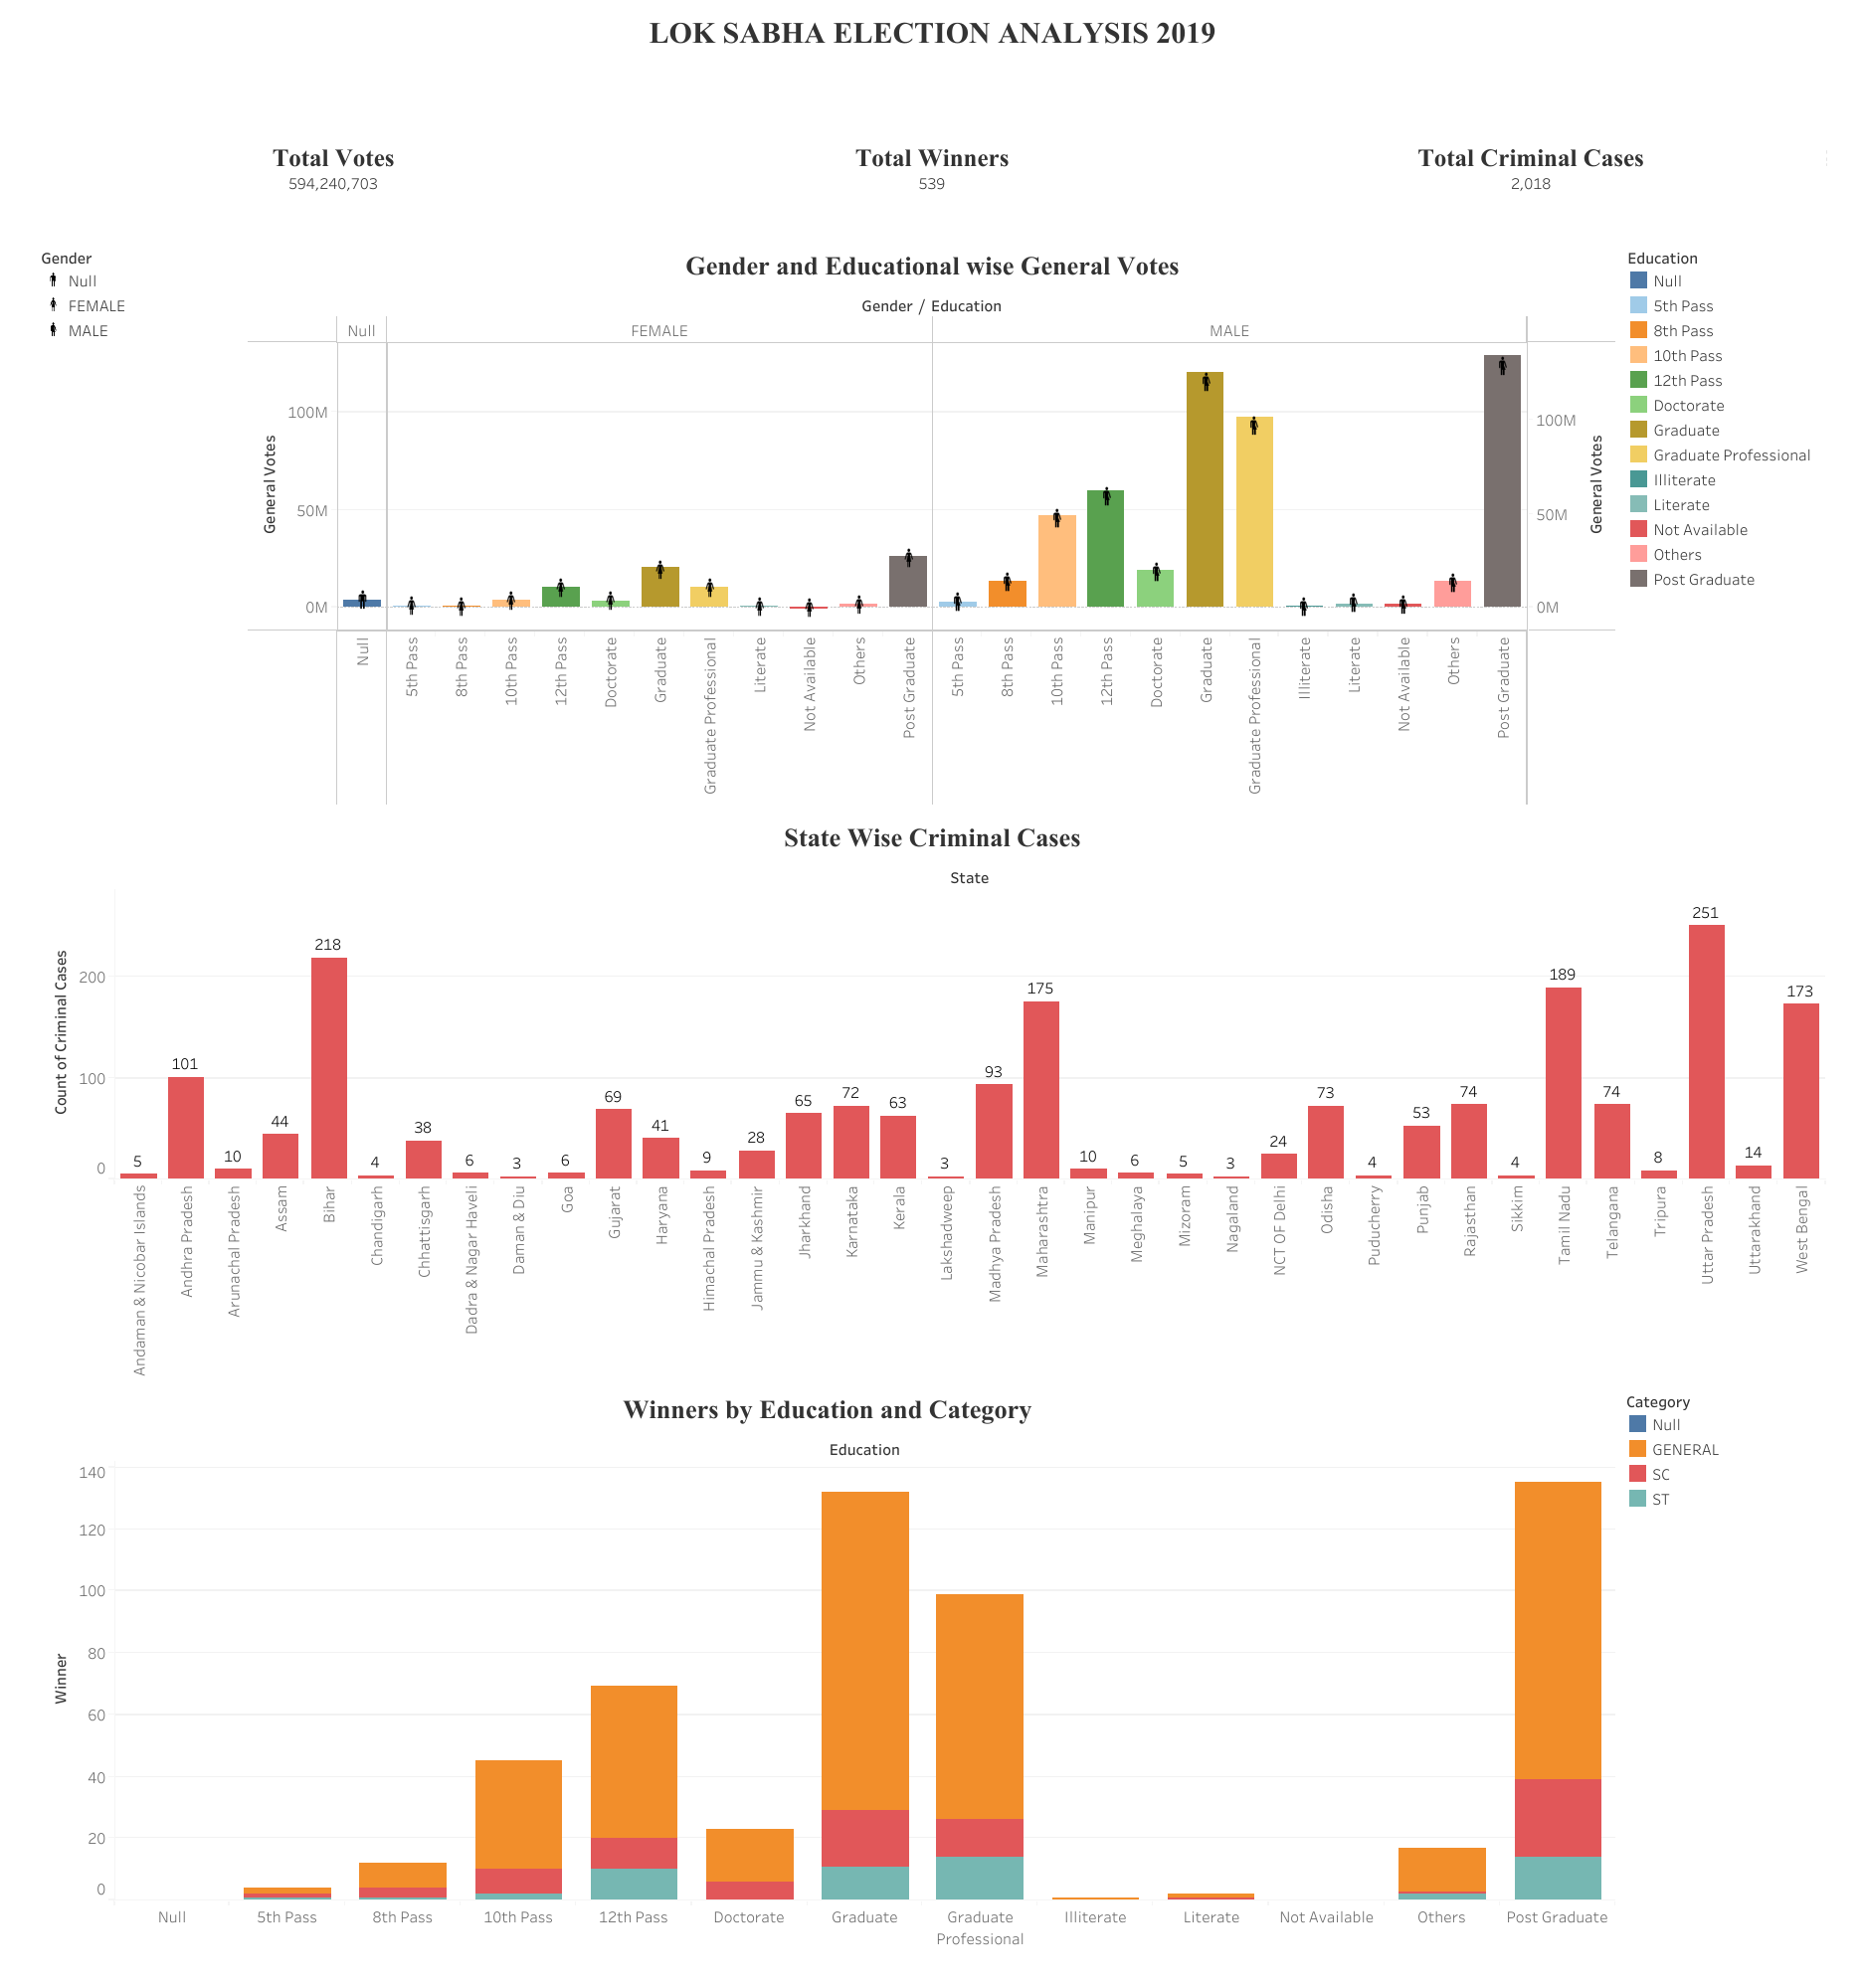

Layout of this report page (visuals, bound fields, positions):
{"tool":"tableau","page":{"name":"Dashboard 1","canvas":[1000,1000],"units":"permille","ordinal":0},"visuals":[{"type":"title","box":[5.4,5,989.3,26.2]},{"type":"worksheet","title":"Sheet 10","mark":"Automatic","box":[18.8,43.8,320.8,80]},{"type":"worksheet","title":"Sheet 8","mark":"Automatic","box":[339.6,43.8,320.8,80]},{"type":"worksheet","title":"Sheet 9","mark":"Automatic","box":[660.4,43.8,320.8,80]},{"type":"legend","title":"Sheet 1","param":"[federated.1ygikck17u89oi1fo3zsw14tj304].[none:GENDER:nk]","box":[18.8,123.8,112.8,286.2]},{"type":"worksheet","title":"Sheet 1","mark":"Automatic","rows":["GENERAL VOTES","GENERAL VOTES"],"cols":["GENDER","EDUCATION"],"box":[131.5,123.8,719.4,286.2]},{"type":"legend","title":"Sheet 1","param":"[federated.1ygikck17u89oi1fo3zsw14tj304].[none:EDUCATION:nk]","box":[850.9,123.8,130.2,286.2]},{"type":"worksheet","title":"Sheet 4","mark":"Automatic","rows":["CRIMINAL CASES"],"cols":["STATE"],"box":[18.8,410,962.4,286.2]},{"type":"worksheet","title":"Sheet 6","mark":"Automatic","rows":["WINNER"],"cols":["EDUCATION"],"box":[18.8,696.2,855.7,286.2]},{"type":"legend","title":"Sheet 6","param":"[federated.1ygikck17u89oi1fo3zsw14tj304].[none:CATEGORY:nk]","box":[874.5,696.2,106.7,286.2]}]}

Visuals, with their boxes on the dashboard's canvas, which has no fixed pixel size, in thousandths of its width and height (x1, y1, x2, y2). These are canvas units, not pixel positions in the 1864x1988 screenshot, which may show the page scaled, cropped or inside an application window:
title: [5,5,995,31]
"Sheet 10" worksheet: [19,44,340,124]
"Sheet 8" worksheet: [340,44,660,124]
"Sheet 9" worksheet: [660,44,981,124]
"Sheet 1" legend: [19,124,132,410]
"Sheet 1" worksheet: [132,124,851,410]
"Sheet 1" legend: [851,124,981,410]
"Sheet 4" worksheet: [19,410,981,696]
"Sheet 6" worksheet: [19,696,874,982]
"Sheet 6" legend: [874,696,981,982]
